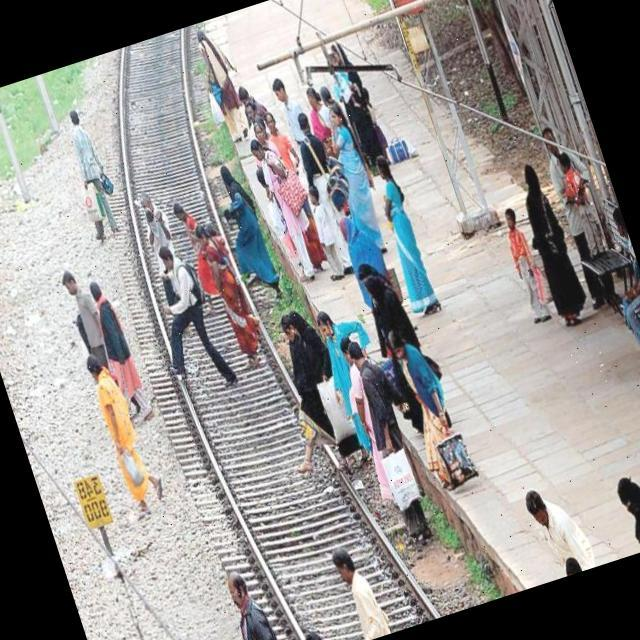person: (342, 332, 438, 554), (137, 236, 239, 404), (83, 346, 171, 524), (508, 158, 596, 334), (384, 322, 470, 492), (362, 152, 442, 322), (191, 213, 270, 374), (247, 130, 324, 288), (312, 305, 384, 469), (206, 157, 283, 308), (282, 306, 354, 466), (82, 275, 151, 431), (56, 106, 126, 246), (316, 99, 382, 234), (187, 20, 254, 150), (494, 200, 556, 327), (552, 146, 608, 262), (170, 195, 222, 317), (328, 539, 388, 640), (300, 180, 350, 290), (520, 480, 580, 567), (56, 263, 109, 358), (221, 566, 285, 640), (284, 106, 336, 186), (332, 206, 383, 272), (610, 465, 640, 553), (268, 72, 304, 122), (264, 110, 294, 160)
